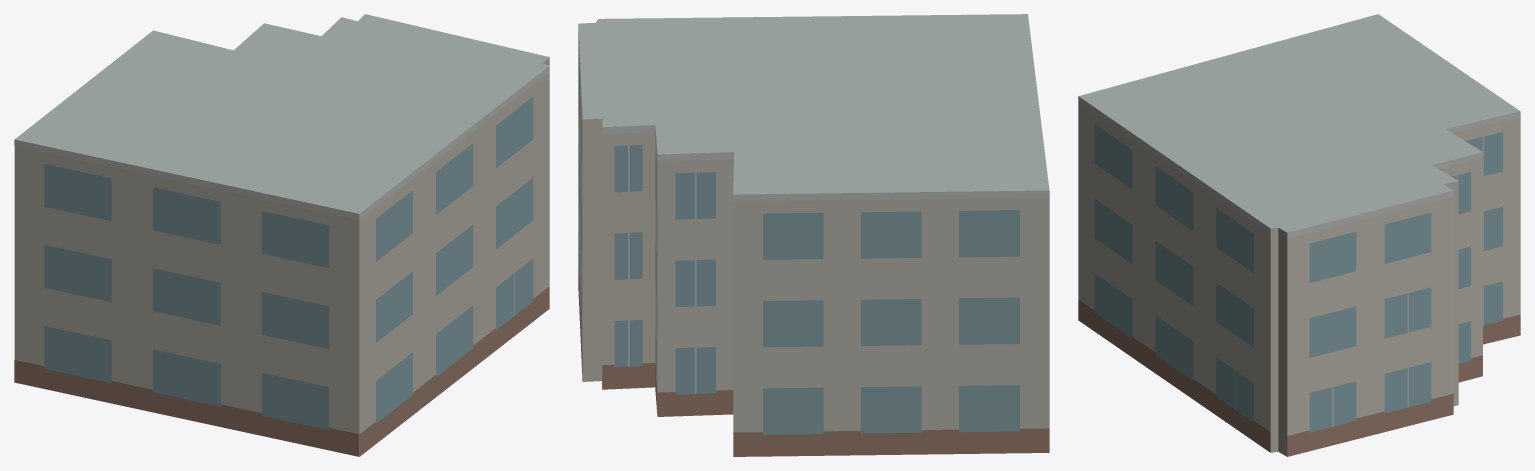
File: survey-upis-33026600.glb
3 renders of one model, left to right at view 1: azimuth 30°, elevation 25°; view 2: azimuth 150°, elevation 25°; view 3: azimuth 270°, elevation 25°, orthographic. The views are drawn at different scales.
Visible parts, largest first — view 1: survey-upis-33026600.tmp; view 2: survey-upis-33026600.tmp; view 3: survey-upis-33026600.tmp.
Part boxes in pixels (bbox=[...]): survey-upis-33026600.tmp: bbox=[14, 14, 549, 456]; survey-upis-33026600.tmp: bbox=[578, 14, 1049, 456]; survey-upis-33026600.tmp: bbox=[1078, 14, 1520, 456].
Bounding box in the file's own units: 19.15 × 9.15 × 16.36.
